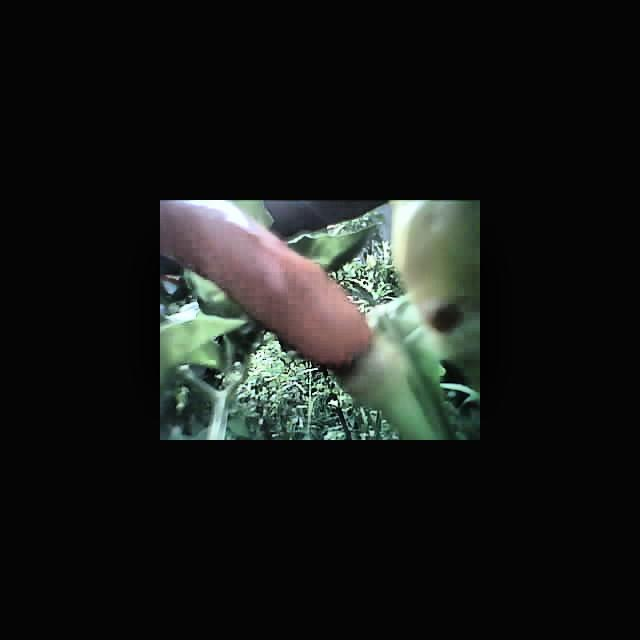Cabai: (168, 200, 369, 362)
